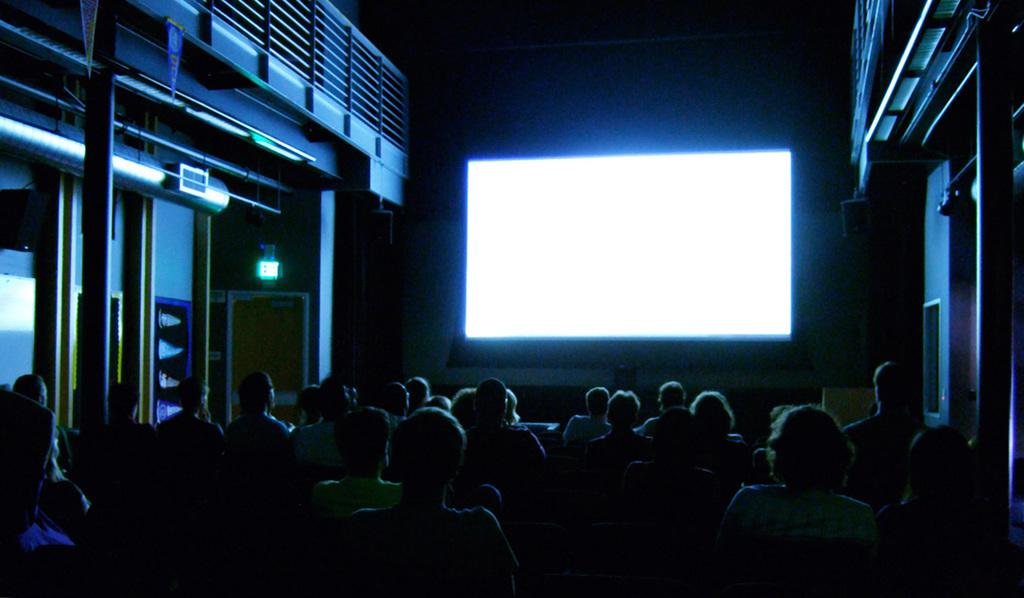Person: (0, 360, 1010, 598)
